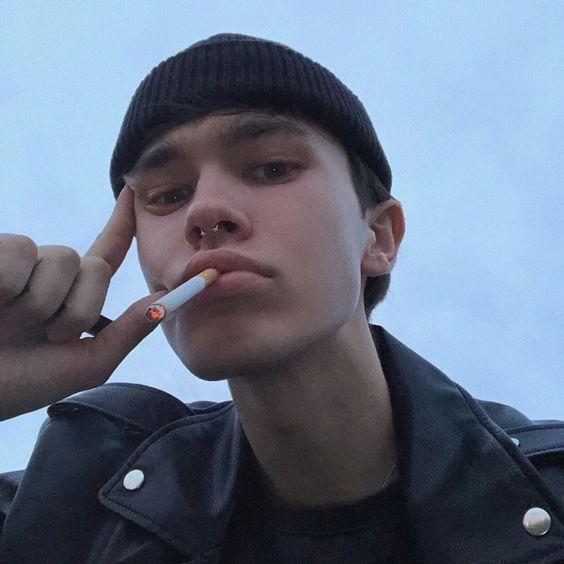cigarette: (144, 267, 221, 324)
